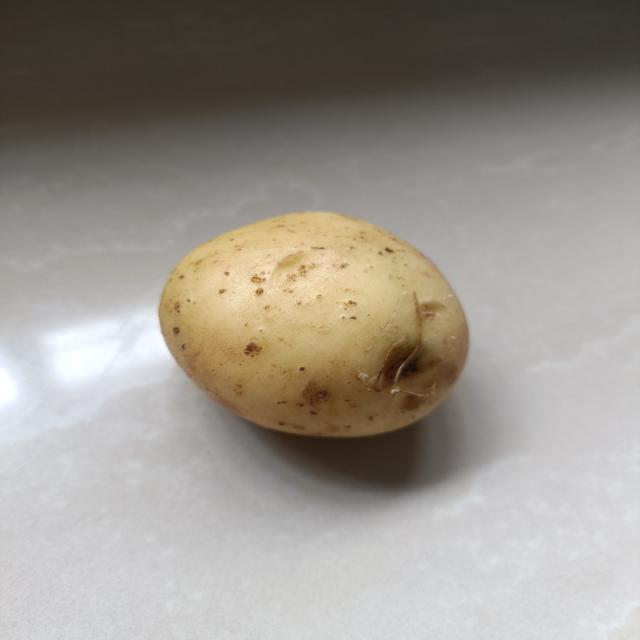potato: (155, 205, 473, 443)
